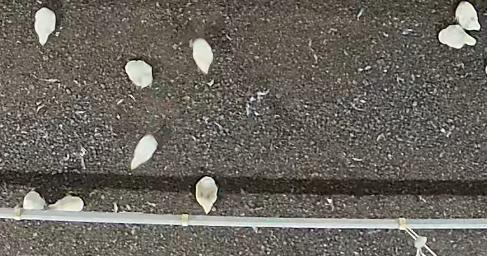chick: (128, 132, 160, 171), (435, 23, 478, 50), (193, 173, 220, 215), (123, 58, 154, 89), (190, 37, 215, 75), (32, 5, 55, 46), (453, 0, 480, 30), (48, 194, 86, 213), (22, 190, 47, 210)
